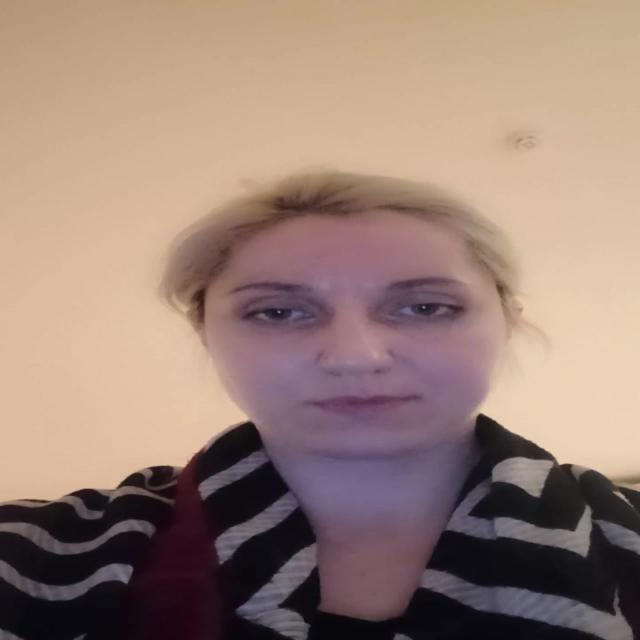eye: (390, 302, 457, 321), (245, 308, 311, 323)
nose: (315, 363, 398, 395)
